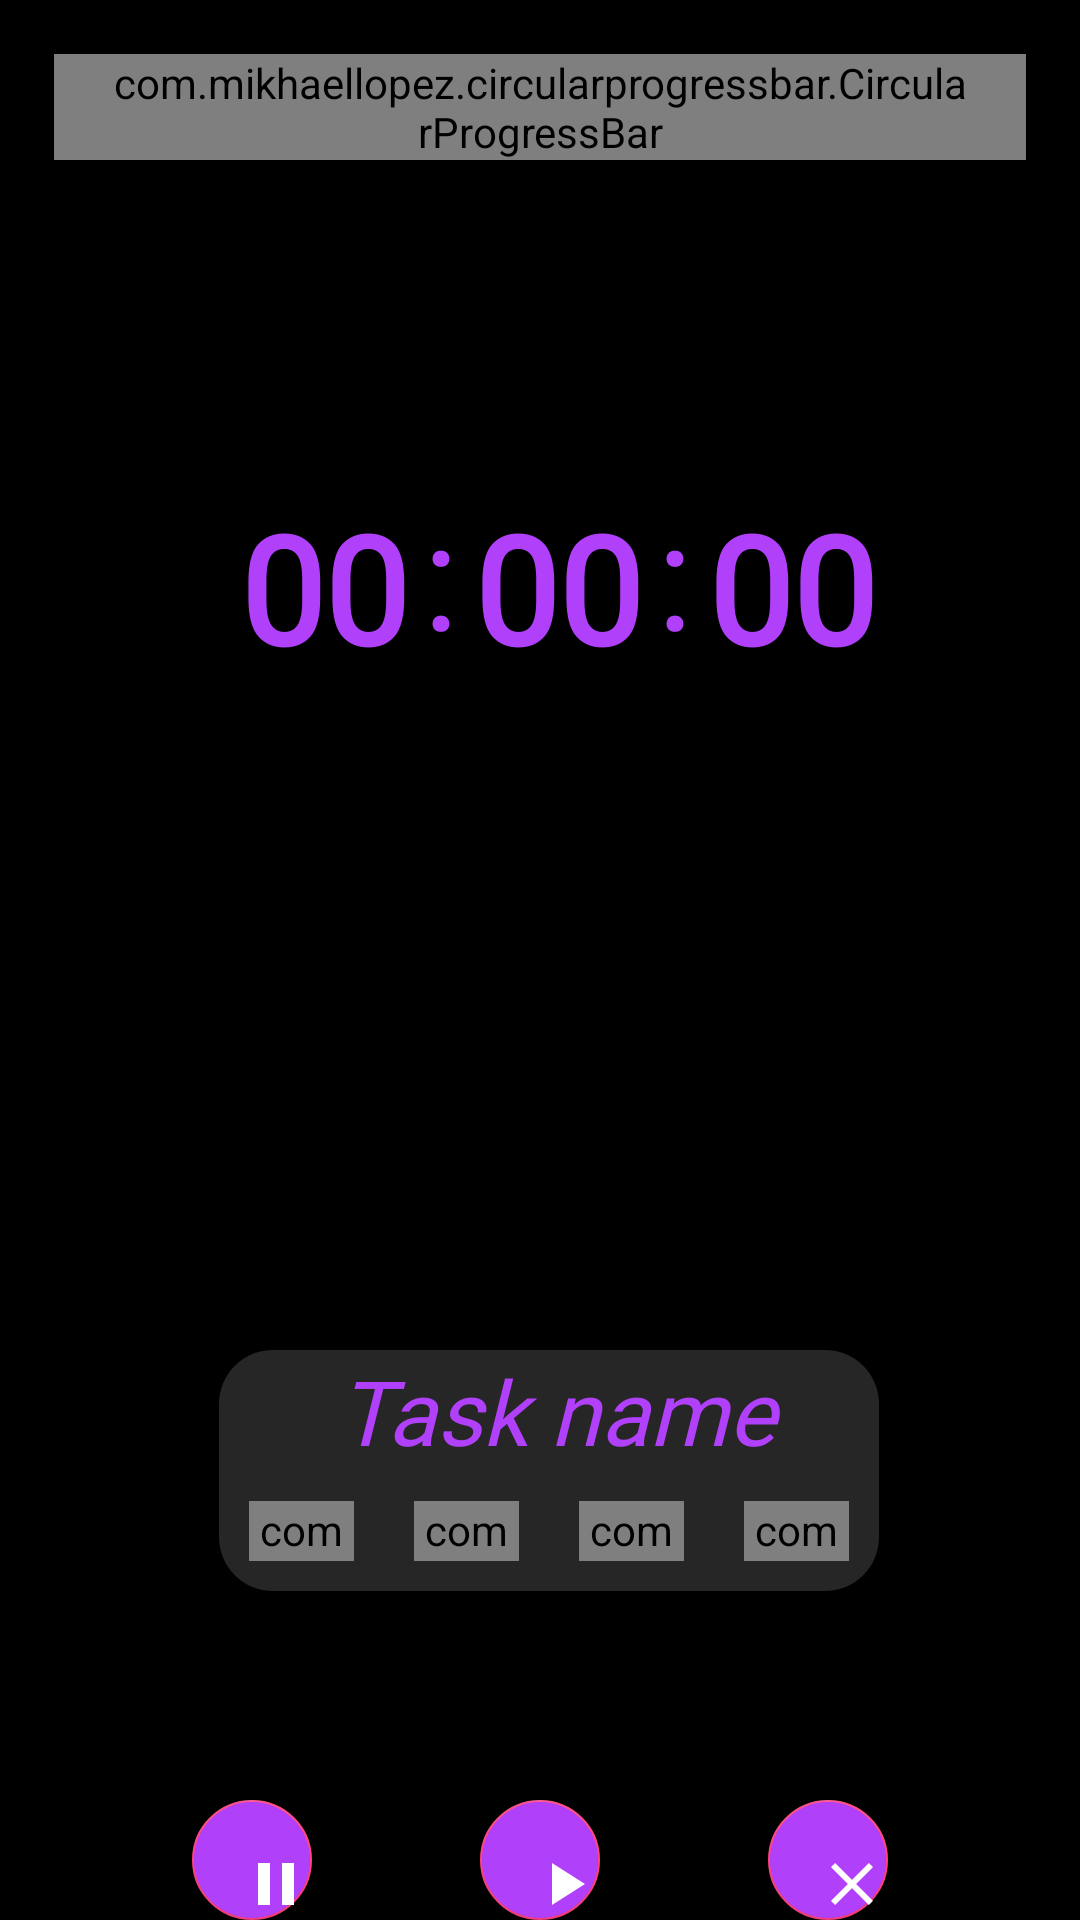

Icon click points for this 1080 × 1920 phone screenshot, format (x,y):
close: (828,1860)
pause: (252,1860)
play arrow: (540,1860)
